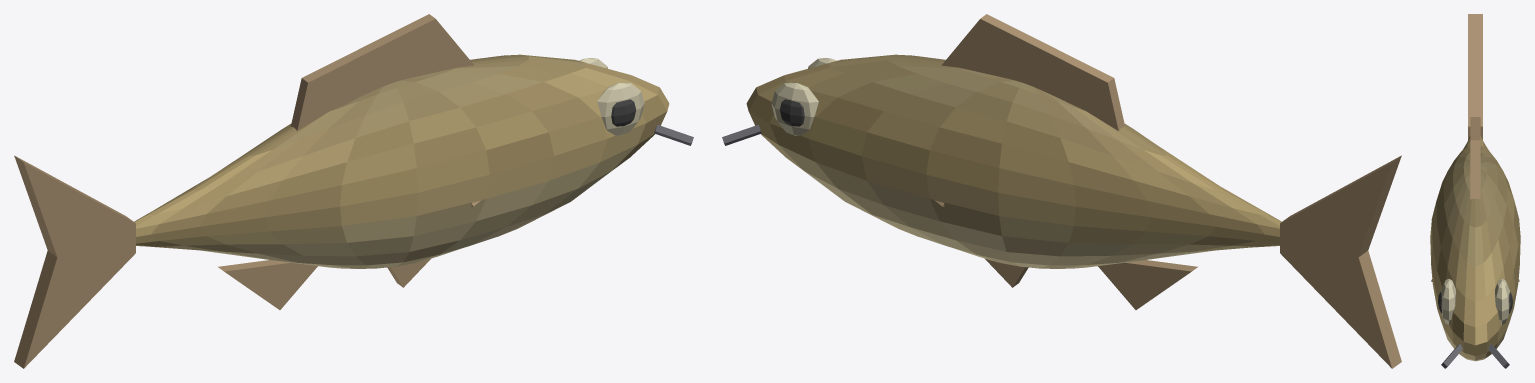
Rendered from CommonCarp.glb.
3 renders of one model, left to right at view 1: azimuth 30°, elevation 25°; view 2: azimuth 150°, elevation 25°; view 3: azimuth 270°, elevation 25°, orthographic. The views are drawn at different scales.
Visible parts, largest first — view 1: CommonCarp; view 2: CommonCarp; view 3: CommonCarp.
Boxes of the visible parts, x1=… form: CommonCarp: x1=14, y1=14, x2=693, y2=368; CommonCarp: x1=722, y1=14, x2=1401, y2=368; CommonCarp: x1=1430, y1=14, x2=1520, y2=368.
Size of the model in its own units: 5.61 by 2.13 by 0.8492.
